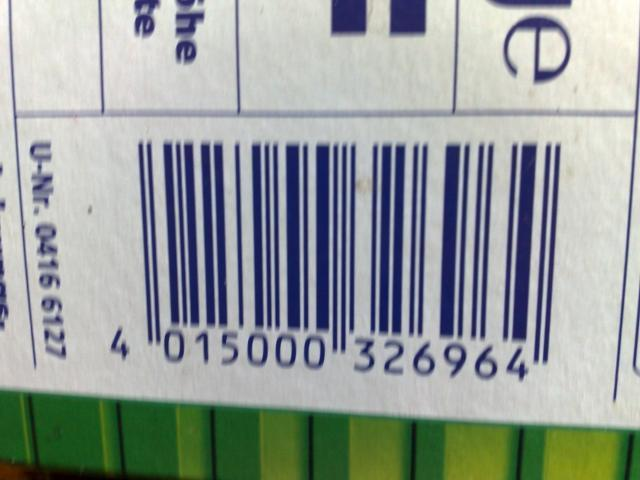Barcode: (106, 136, 565, 384)
